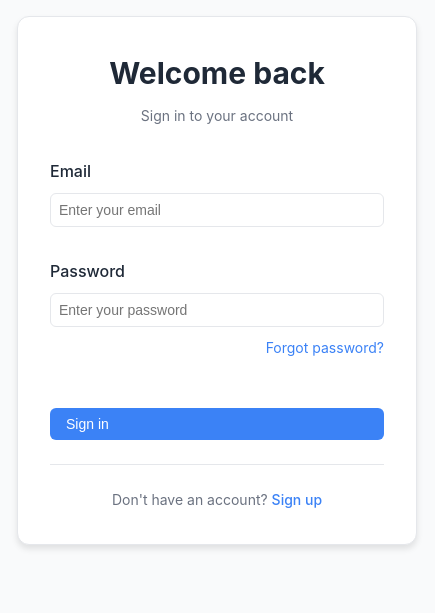
Login Page › should clear field errors when user starts typing
Note: Trigger validation errors
Submit the form "Sign in", box [50, 159, 384, 440]
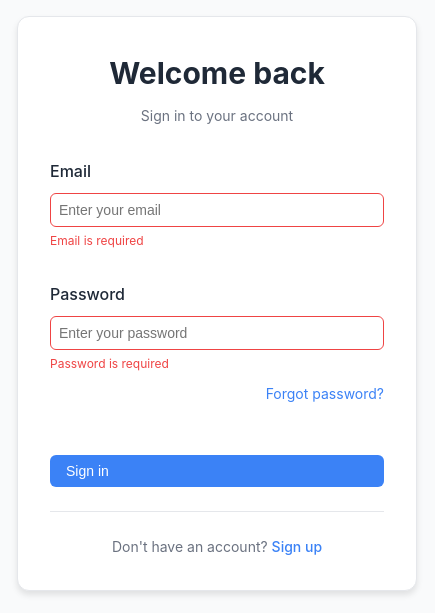
Check: the text "Email is required" is shown, box [50, 233, 144, 248]
Note: Start typing in email field
Type "test@example.com" into the field labelled "Email" at (217,210), box [50, 193, 384, 227]
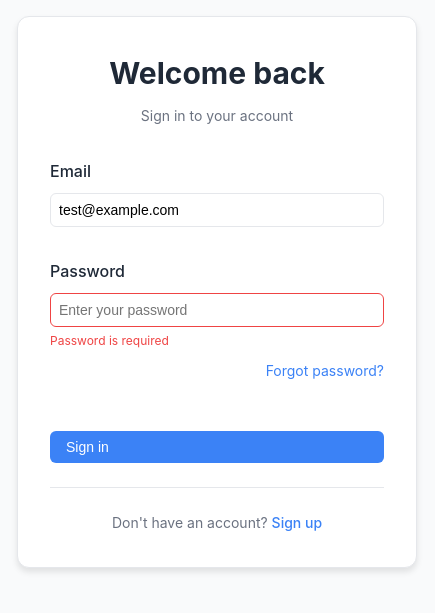
Check: the text "Email is required" is gone
